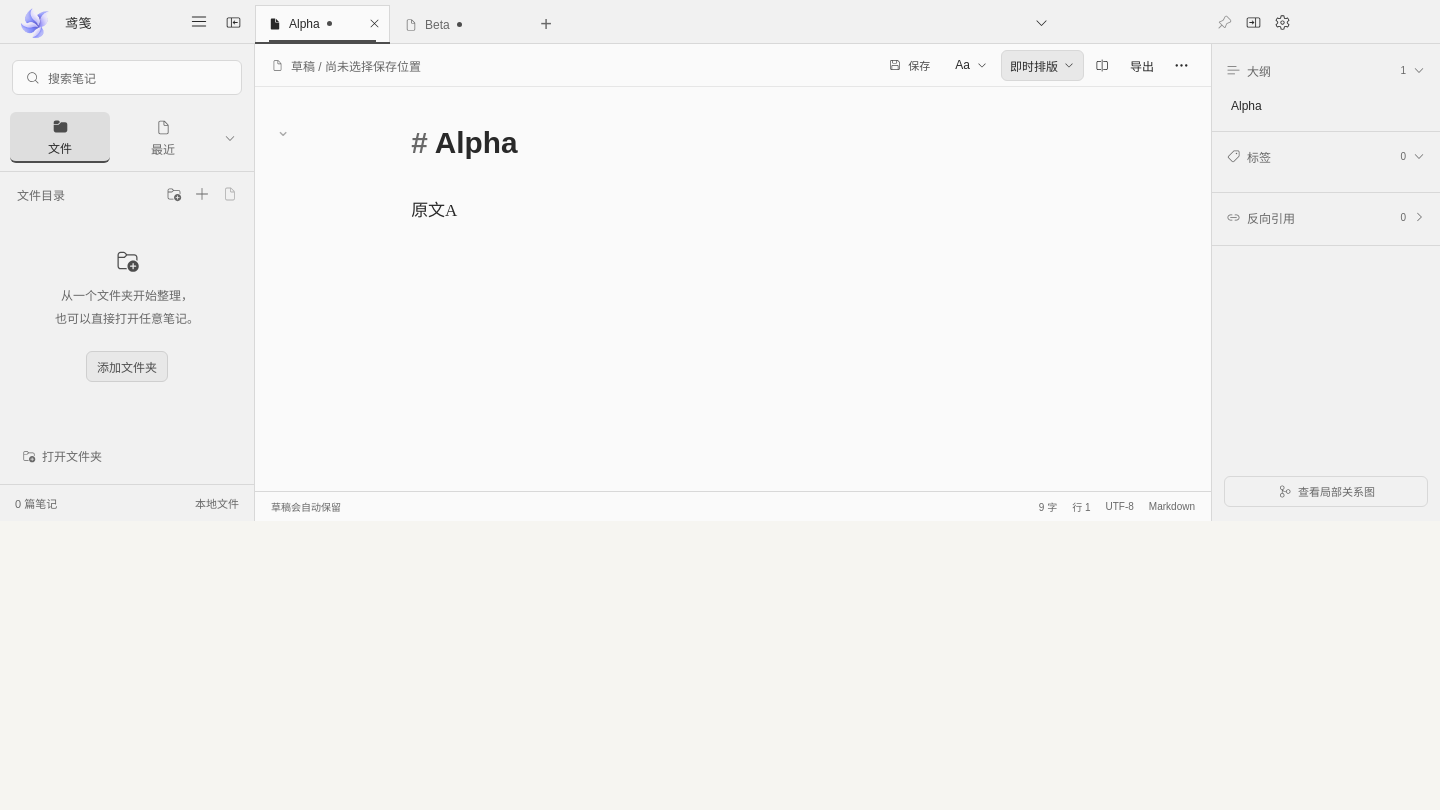
Scenario: does not revive an explicitly discarded anonymous draft
This screenshot has width=1440, height=810.
What coordinates should you click on to do the following:
click the button named "关闭 Alpha"
I would click on:
 (374, 24)
Its box is [363,12,385,34].
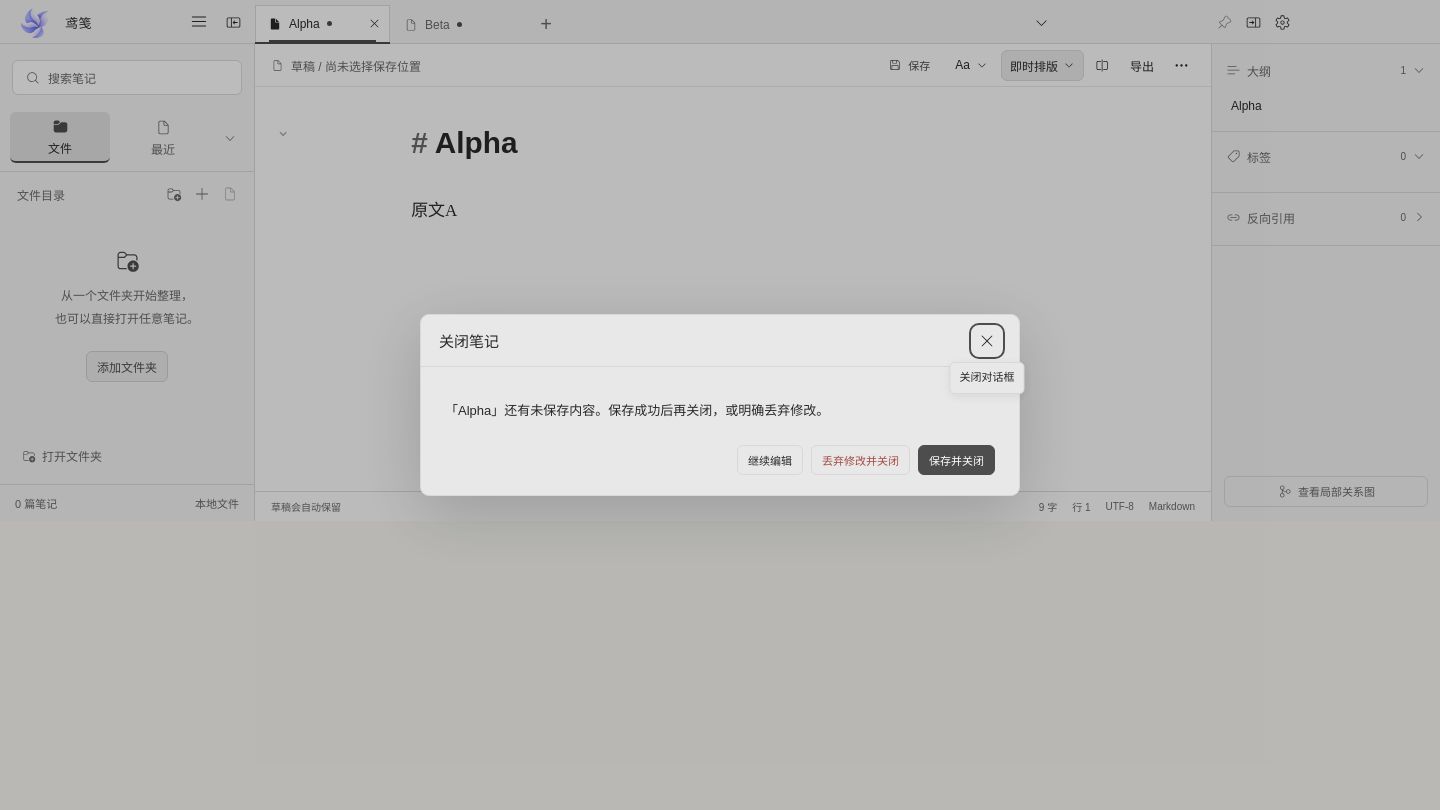
Check: the button "丢弃修改并关闭" is shown
What coordinates should you click on to do the following:
click the button "丢弃修改并关闭"
I would click on:
 (860, 460)
Its box is [811,444,910,474].
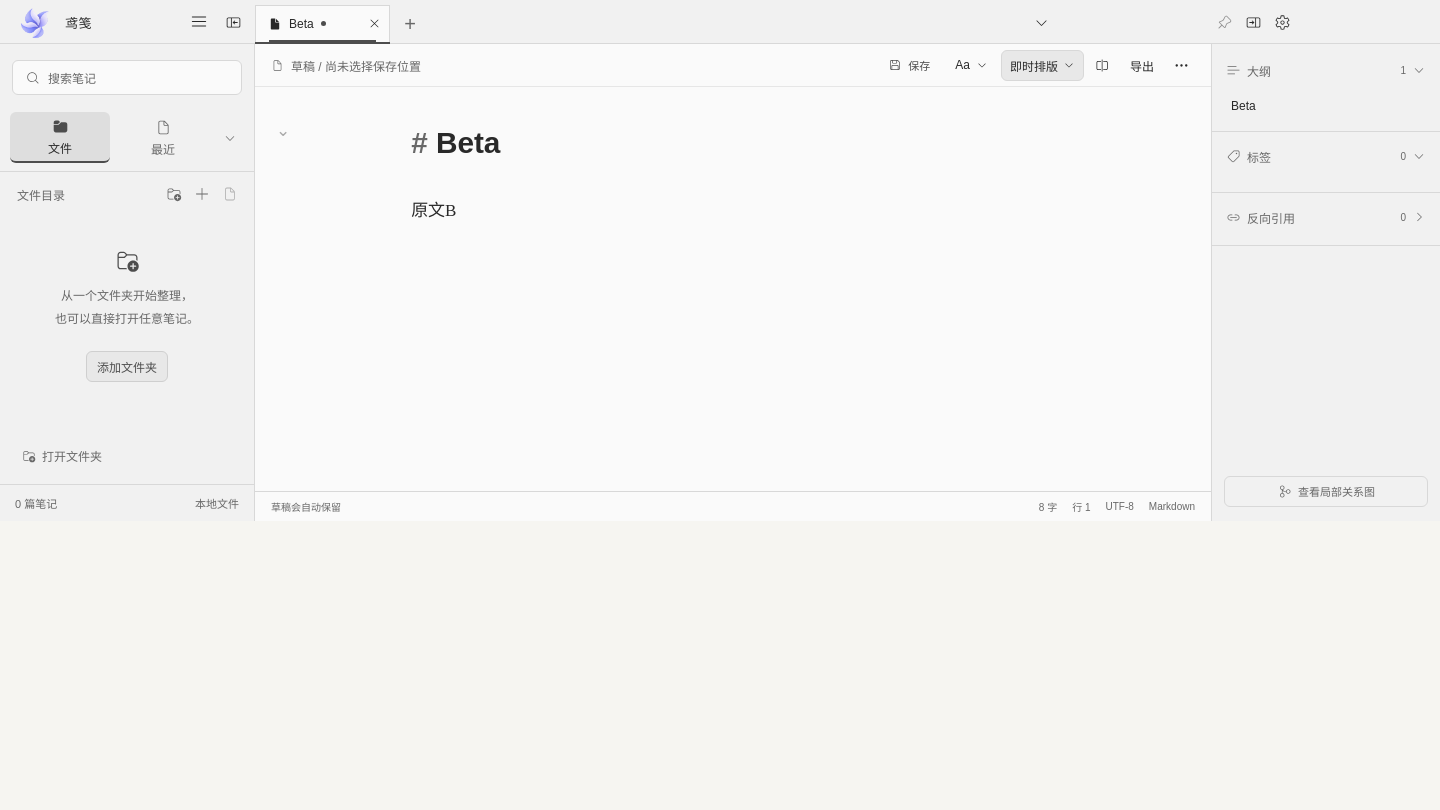
Check: the tab with id "document-tab-note-A" is gone
